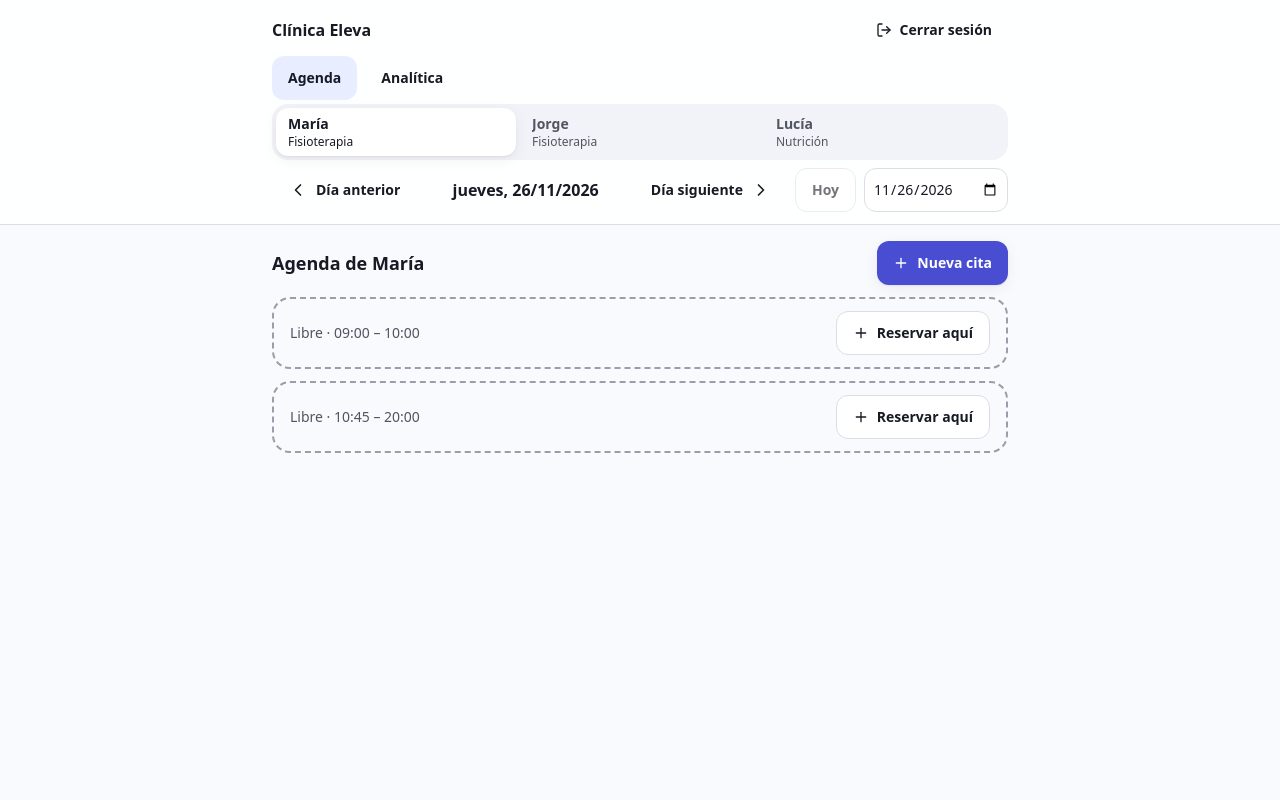
Scenario: cliente del API y App › [001][FR-002] si la sesión caduca mientras se usa la agenda, App vuelve al acceso con el aviso de caducidad
The image size is (1280, 800).
expect the heading "Agenda de María" is shown: met, box [272,249,424,277]
Click the button "Día siguiente" at (711, 190), box [635,168,787,212]
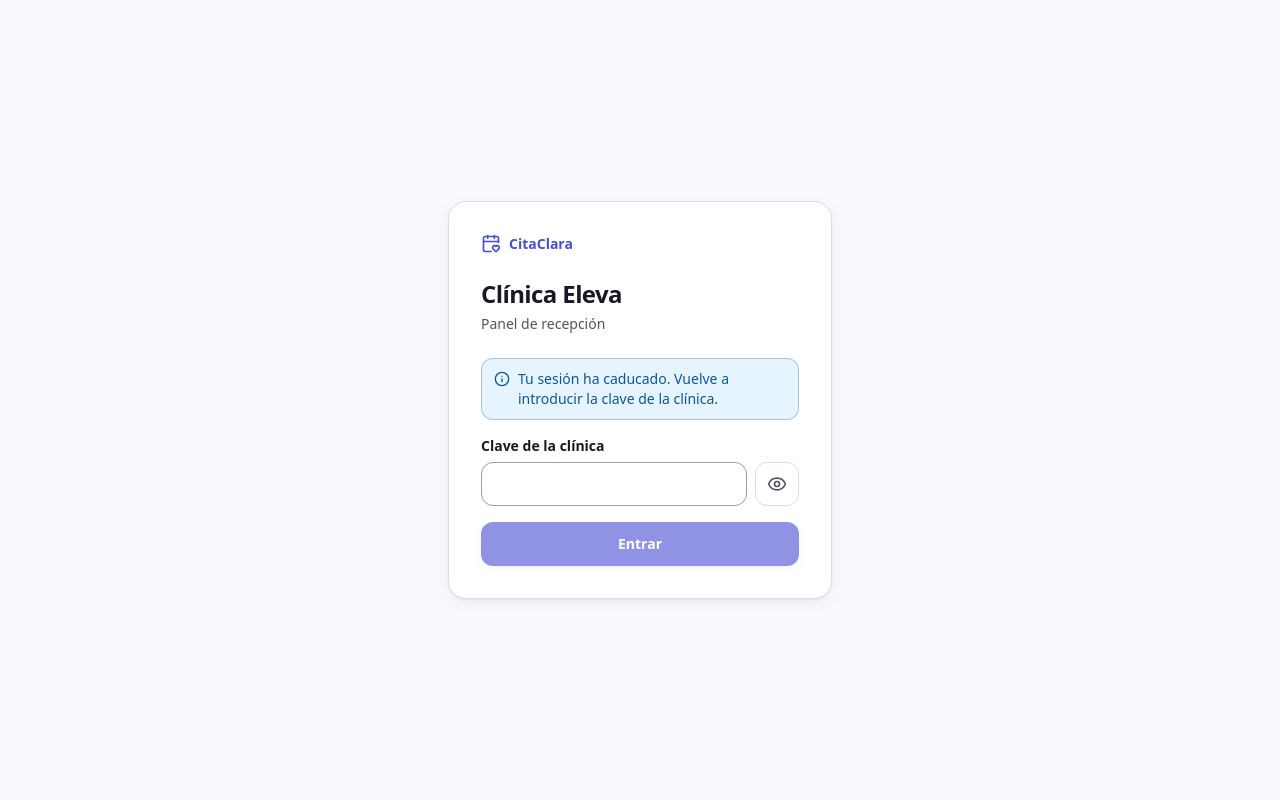
expect the text "Tu sesión ha caducado. Vuelve a introducir la clave de la clínica." is shown: met, box [518,369,729,408]
expect the password field labelled "Clave de la clínica" is shown: met, box [481,462,747,506]
